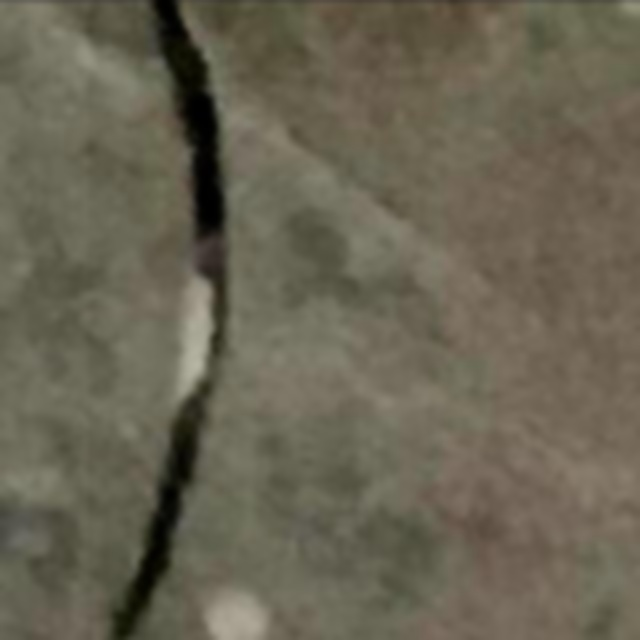SurfaceCrack: (72, 0, 272, 640)
